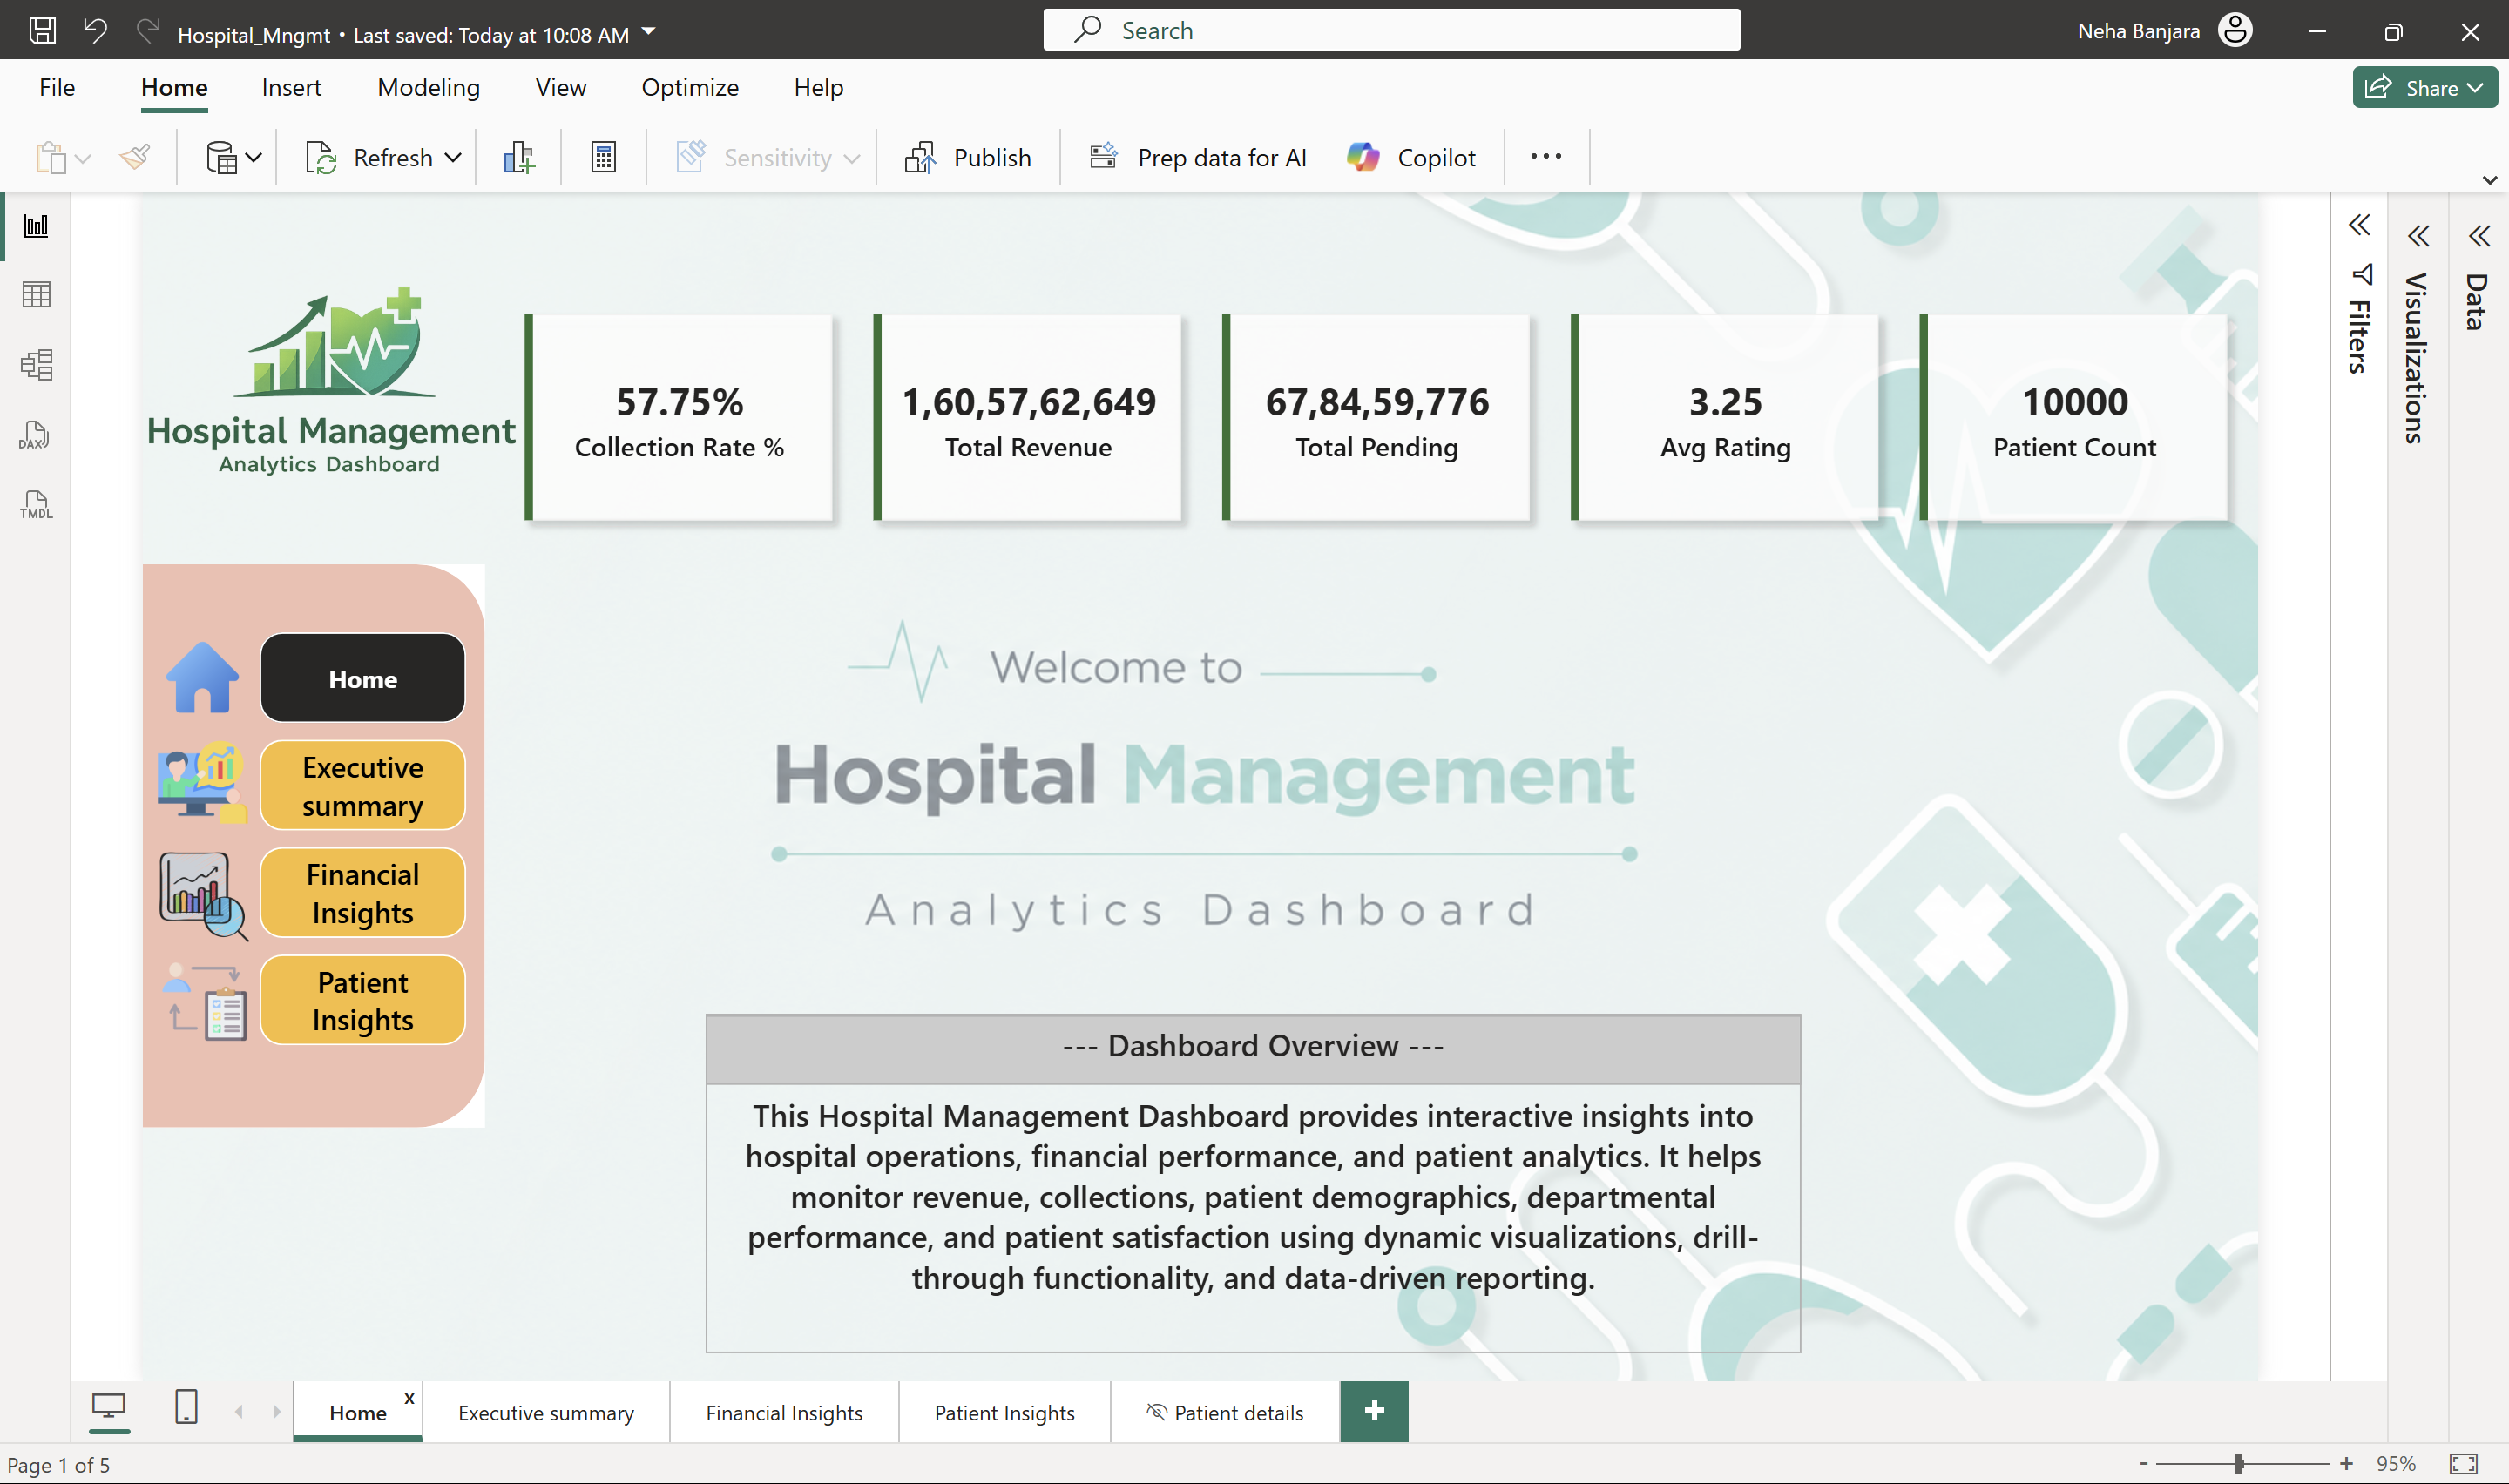

The page's visual inventory and layout, read from the dashboard file:
{"tool":"powerbi","page":{"name":"Home","canvas":[1280,720],"ordinal":0},"visuals":[{"type":"cardVisual","fields":{"Data":["Measures_table.Collection Rate %","Measures_table.Total Revenue","Measures_table.Total Pending","Avg(hospital_management.FeedbackRating)","Measures_table.Patient Count"]},"box":[213.8,56.9,1065.8,159.2],"z":0},{"type":"shape","box":[0,225.4,206.9,340.9],"z":0,"group":"g2"},{"type":"shape","box":[340.4,498.5,662.9,42.1],"z":0,"group":"g1"},{"type":"image","box":[0,0,230.8,225.7],"z":1000},{"type":"textbox","box":[340.4,497.2,662.9,205.3],"z":1000,"group":"g1"},{"type":"group","id":"g1","title":"Group 1","box":[340.4,497.2,664.2,205.3],"z":2000},{"type":"group","id":"g2","title":"Group 3","box":[0,225.4,206.9,340.9],"z":3000},{"type":"group","id":"g3","title":"Group 2","box":[1.4,266.9,194.4,251.4],"z":4000,"group":"g2"},{"type":"pageNavigator","box":[70.5,266.9,125.3,251.4],"z":13000,"group":"g3"},{"type":"image","box":[1.4,329.8,70.6,54.8],"z":14000,"group":"g3"},{"type":"image","box":[2.8,272.2,67.7,44.1],"z":15000,"group":"g3"},{"type":"image","box":[2.8,463.5,70.6,54.8],"z":16000,"group":"g3"},{"type":"image","box":[2.8,399.3,70.6,54.8],"z":17000,"group":"g3"}]}

Visuals, with their boxes on the page's 1280x720 design canvas (x1, y1, x2, y2). These are canvas units, not pixel positions in the 2509x1484 screenshot, which may show the page scaled, cropped or inside an application window:
cardVisual - Measures_table.Collection Rate % x Measures_table.Total Revenue: (x1=214, y1=57, x2=1280, y2=216)
shape: (x1=0, y1=225, x2=207, y2=566)
shape: (x1=340, y1=498, x2=1003, y2=541)
image: (x1=0, y1=0, x2=231, y2=226)
textbox: (x1=340, y1=497, x2=1003, y2=702)
"Group 1" group: (x1=340, y1=497, x2=1005, y2=702)
"Group 3" group: (x1=0, y1=225, x2=207, y2=566)
"Group 2" group: (x1=1, y1=267, x2=196, y2=518)
pageNavigator: (x1=70, y1=267, x2=196, y2=518)
image: (x1=1, y1=330, x2=72, y2=385)
image: (x1=3, y1=272, x2=70, y2=316)
image: (x1=3, y1=464, x2=73, y2=518)
image: (x1=3, y1=399, x2=73, y2=454)
